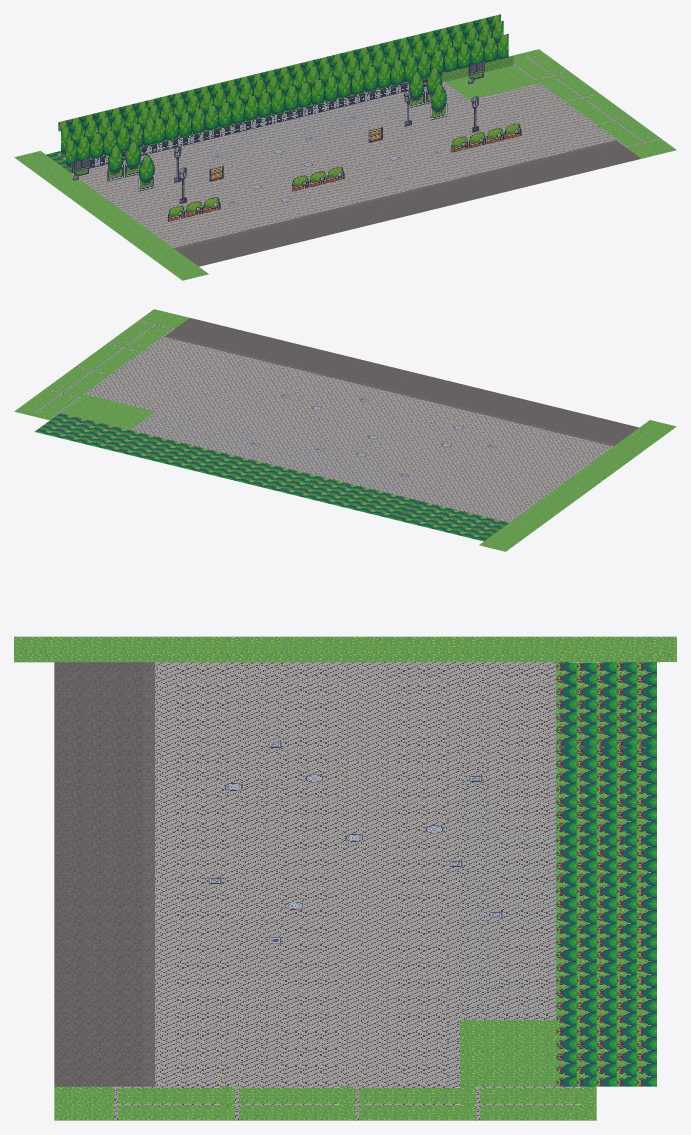
Rendered from park.gltf.
3 renders of one model, top to bottom at view 1: azimuth 30°, elevation 25°; view 2: azimuth 150°, elevation 25°; view 3: azimuth 270°, elevation 25°, orthographic. The views are drawn at different scales.
Parts seen in each view (by area): view 1: default; view 2: default; view 3: default.
Boxes of the visible parts, <box> form: default: <box>14,14,676,280</box>; default: <box>14,309,676,551</box>; default: <box>14,636,676,1120</box>.
Size of the model in its own units: 57 by 5 by 33.
Materials: 2 (2 with a texture image).
